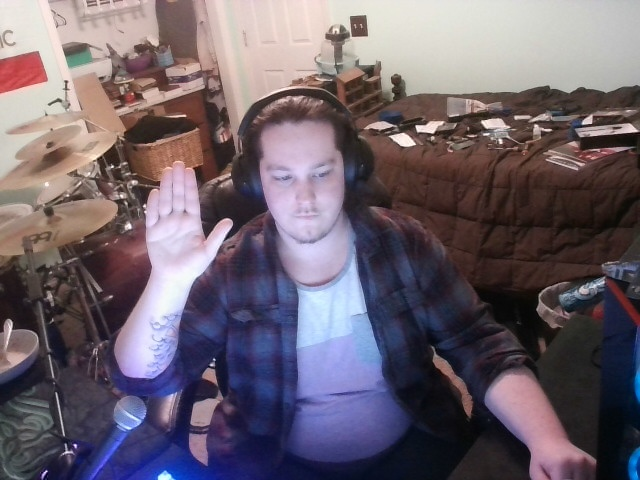hello: (113, 141, 239, 297)
